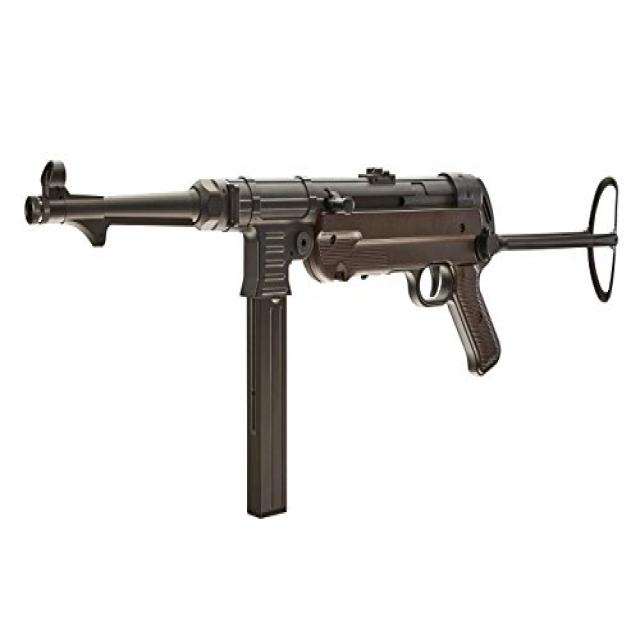SMG: (24, 160, 621, 521)
